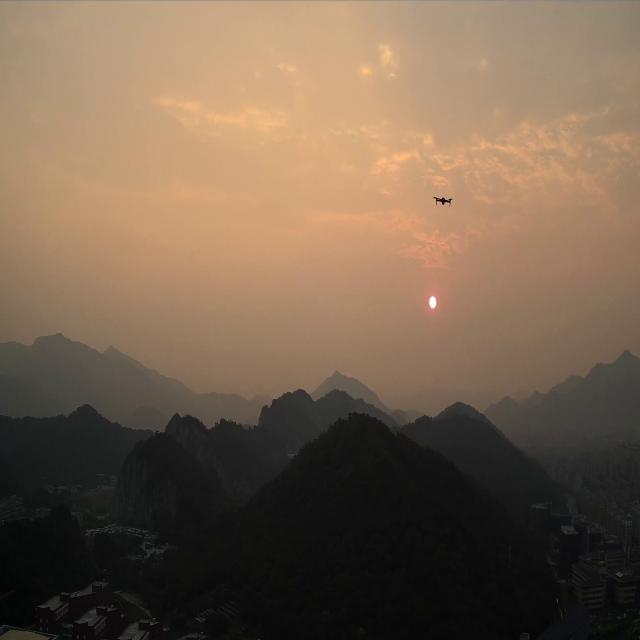UAV: (432, 195, 453, 208)
